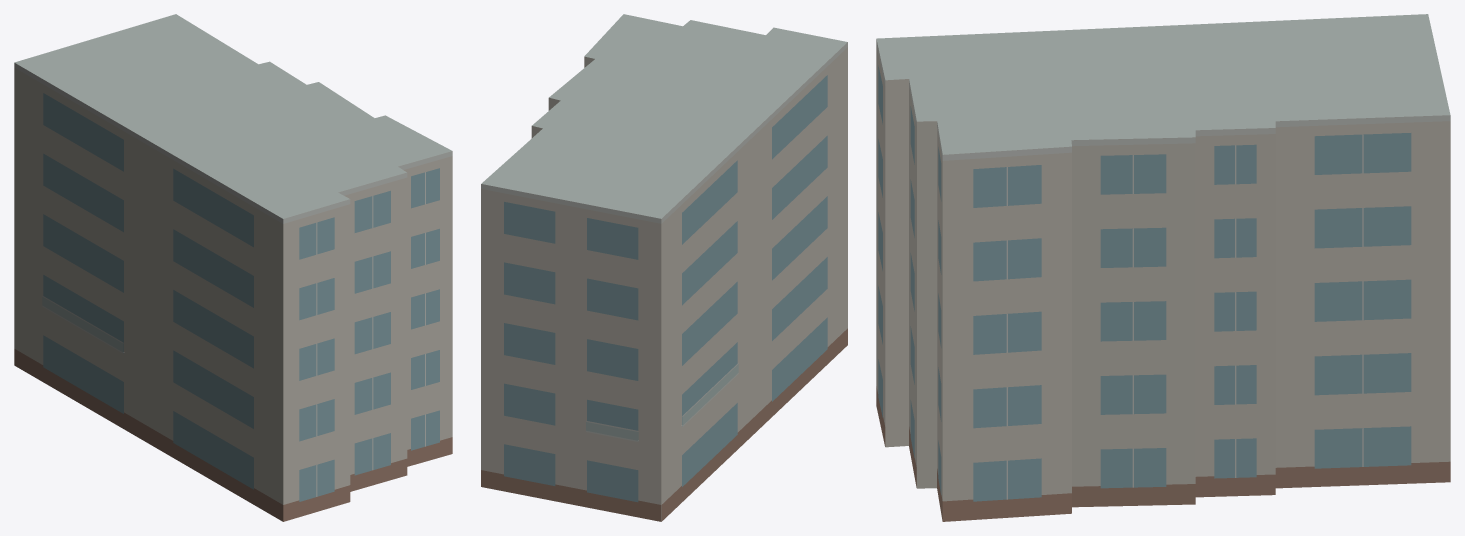
Rendered from survey-upis-32573768.glb.
The picture shows the model from 3 angles, left to right: view 1: azimuth 30°, elevation 25°; view 2: azimuth 150°, elevation 25°; view 3: azimuth 270°, elevation 25°; orthographic projection. The views are drawn at different scales.
Parts seen in each view (by area): view 1: survey-upis-32573768.tmp; view 2: survey-upis-32573768.tmp; view 3: survey-upis-32573768.tmp.
Boxes of the visible parts, bbox=[...] form: survey-upis-32573768.tmp: bbox=[14, 14, 452, 521]; survey-upis-32573768.tmp: bbox=[481, 14, 847, 521]; survey-upis-32573768.tmp: bbox=[876, 14, 1450, 521].
Bounding box in the file's own units: 12.23 × 14.85 × 21.06.
